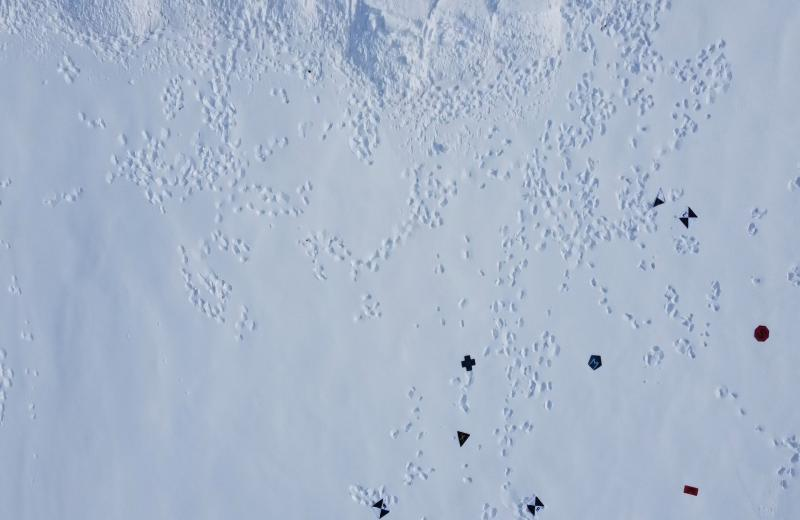Cross: (459, 353, 478, 372)
Octagon: (752, 324, 770, 345)
Pentagon: (586, 352, 602, 371)
Rectangle: (682, 484, 700, 498)
Triangle: (456, 428, 472, 448)
